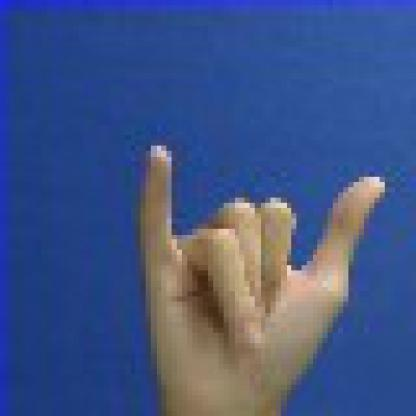six: (99, 114, 395, 411)
